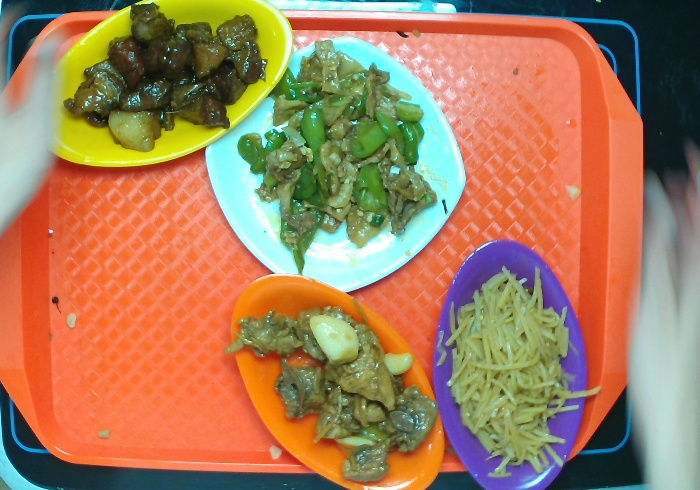RJxy-Fen_Hong_Tuo_Yuan: (428, 237, 593, 490)
RJxy-Huang_Se_Tuo_Yuan: (45, 1, 293, 160)
RJxy-Ju_Huang_Tuo_Yuan: (224, 279, 449, 489)
RJxy-Si_Fang_Die: (204, 28, 471, 290)
